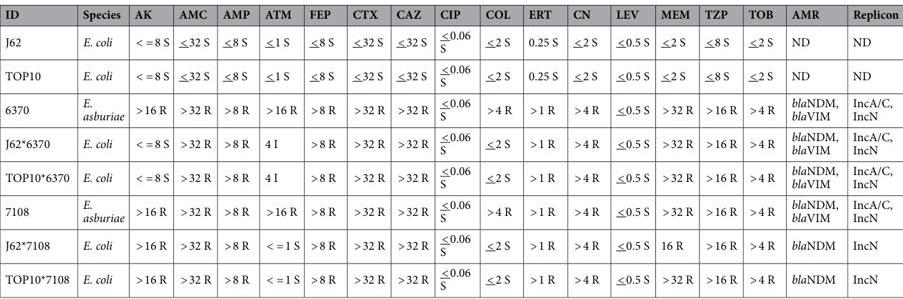table: (4, 5, 898, 293)
table column: (4, 5, 75, 293), (782, 5, 845, 293), (75, 5, 128, 293), (845, 5, 898, 293), (256, 5, 303, 293), (343, 5, 390, 293), (607, 5, 654, 293), (128, 5, 173, 293), (519, 5, 564, 293), (433, 5, 477, 293), (654, 5, 698, 293), (698, 5, 742, 293), (173, 5, 216, 293), (390, 5, 433, 293), (564, 5, 607, 293), (477, 5, 519, 293), (216, 5, 256, 293), (303, 5, 343, 293), (742, 5, 782, 293)
table column header: (4, 5, 898, 24)
table row: (4, 24, 898, 58), (4, 58, 898, 92), (4, 92, 898, 126), (4, 126, 898, 160), (4, 160, 898, 194), (4, 194, 898, 228), (4, 228, 898, 262), (4, 262, 898, 293), (4, 5, 898, 24)
